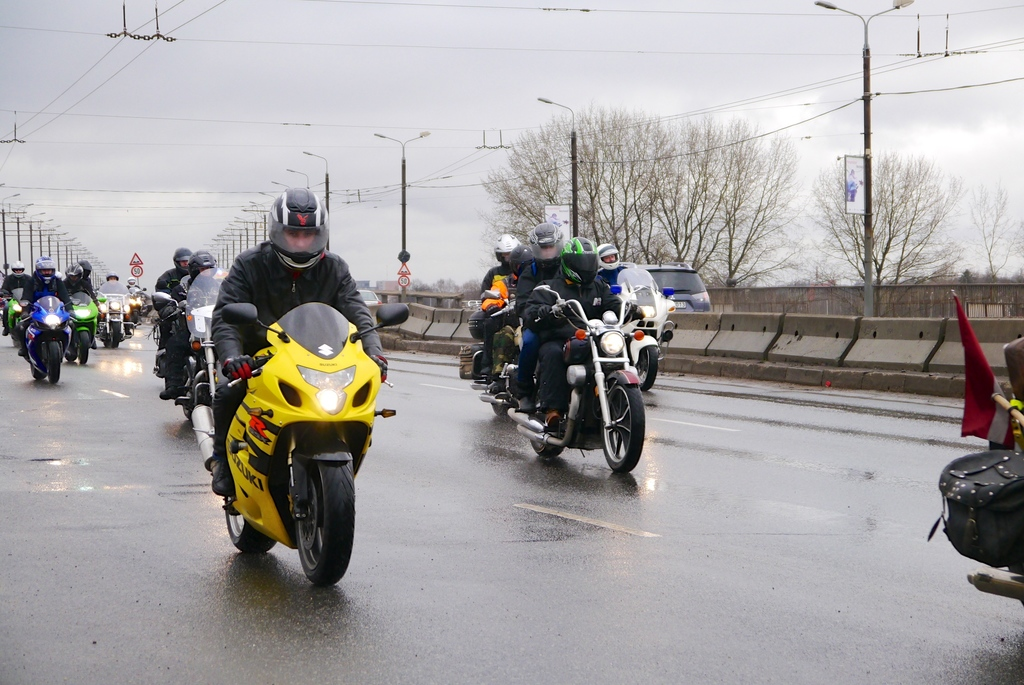Car: (634, 255, 706, 309), (357, 288, 382, 306)
